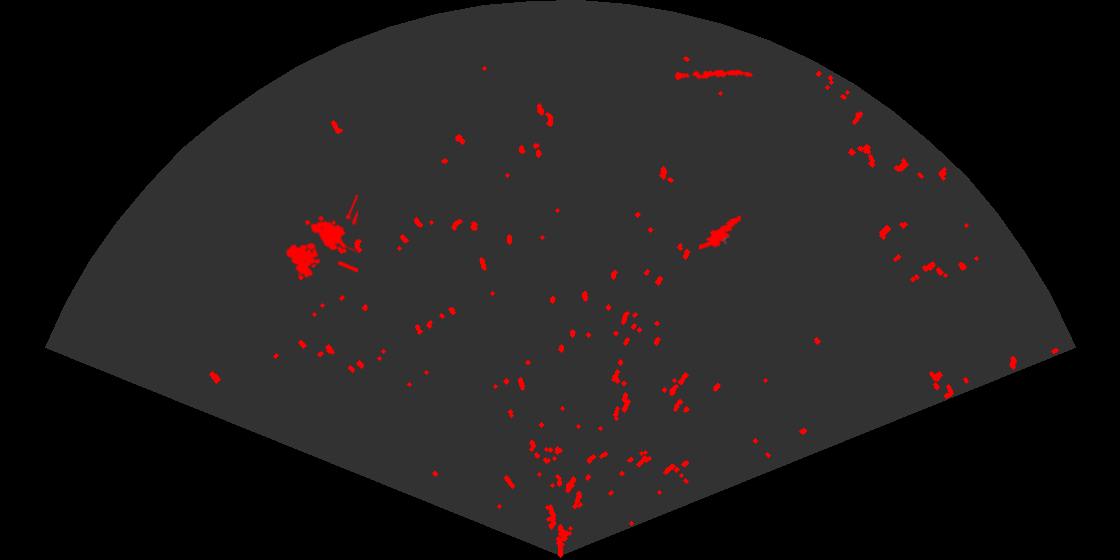cage: (284, 195, 358, 280)
chain: (673, 68, 754, 82)
frogman: (699, 212, 749, 252)
